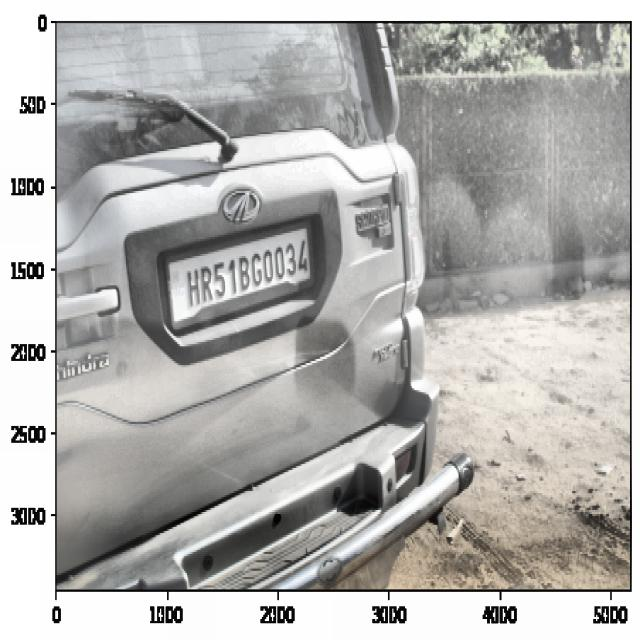license_plate: (178, 234, 312, 306)
